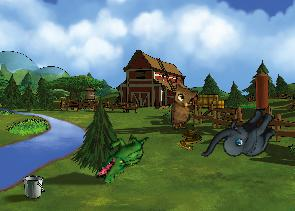crocodile: (93, 123, 150, 192)
elephant: (200, 93, 282, 181)
owl: (170, 83, 199, 130)
